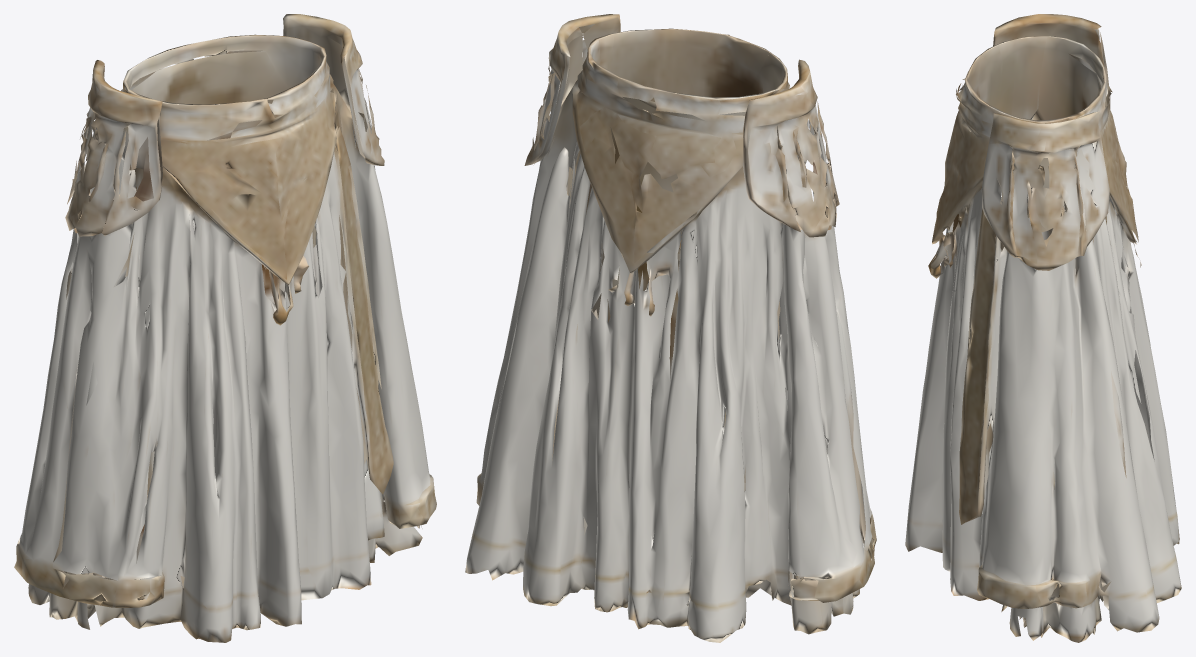
Rendered from armor_priest_vestment_legs.glb.
3 views of the same model, side by side, from view 1: azimuth 30°, elevation 25°; view 2: azimuth 150°, elevation 25°; view 3: azimuth 270°, elevation 25° (orthographic). The views are drawn at different scales.
Visible parts, largest first — view 1: world; view 2: world; view 3: world.
Boxes of the visible parts, x1,y1,x2,y2 form: world: [14, 14, 436, 642]; world: [465, 14, 876, 642]; world: [905, 14, 1181, 642].
Size of the model in its own units: 0.771 by 0.9989 by 0.5117.
1 material, 1 textured.
